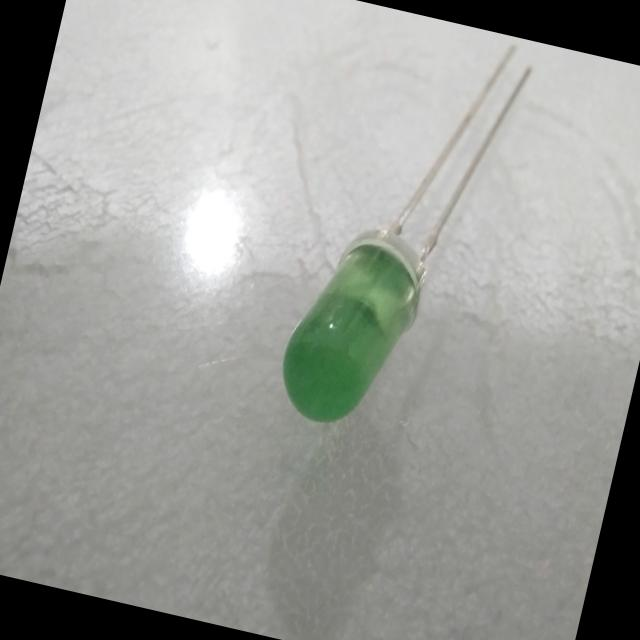green_led: (254, 202, 452, 460)
